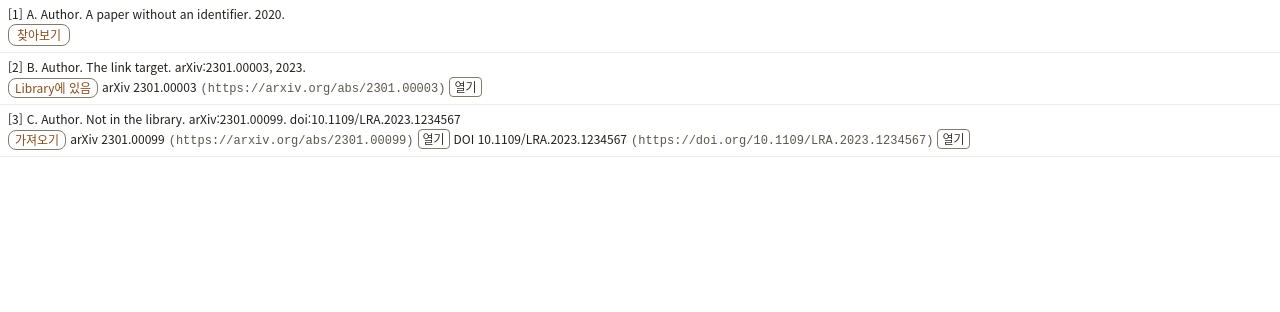
searches once on the first click for an unparsed citation and lets the reader refine the query
The width and height of the screenshot is (1280, 312).
Click the button with test id "pn-ref-find": point(39, 35) top-left (8, 24), bottom-right (70, 46)
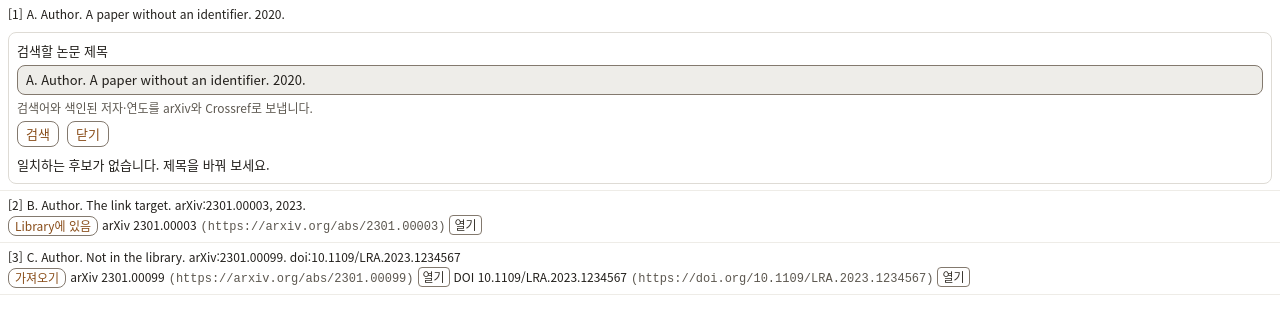
Expected: the message "일치하는 후보가 없습니다. 제목을 바꿔 보세요." is shown, top-left (17, 155), bottom-right (270, 174)
Expected: the search field with test id "pn-ref-query" holds "A. Author. A paper without an identifier. 2020."
Replace the text in the search field with test id "pn-ref-query" with "  Scan Alignment  ": point(640, 80) top-left (17, 65), bottom-right (1263, 95)
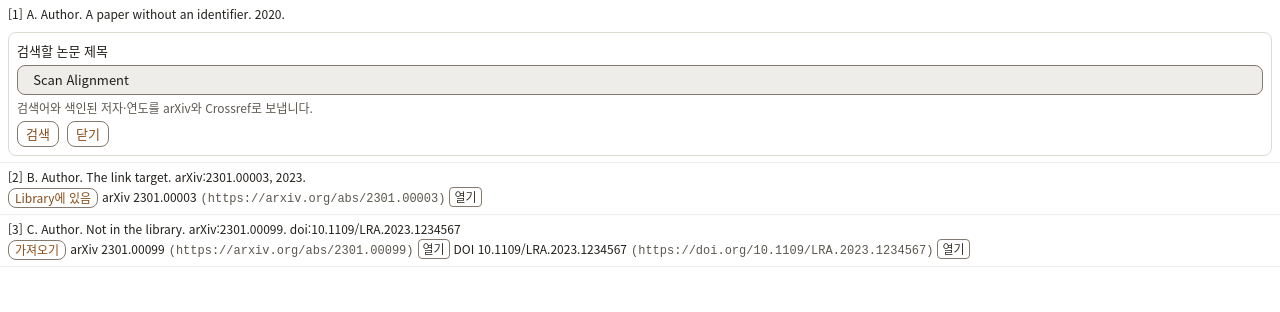
Click the button with test id "pn-ref-search": point(38, 134) top-left (17, 121), bottom-right (59, 147)
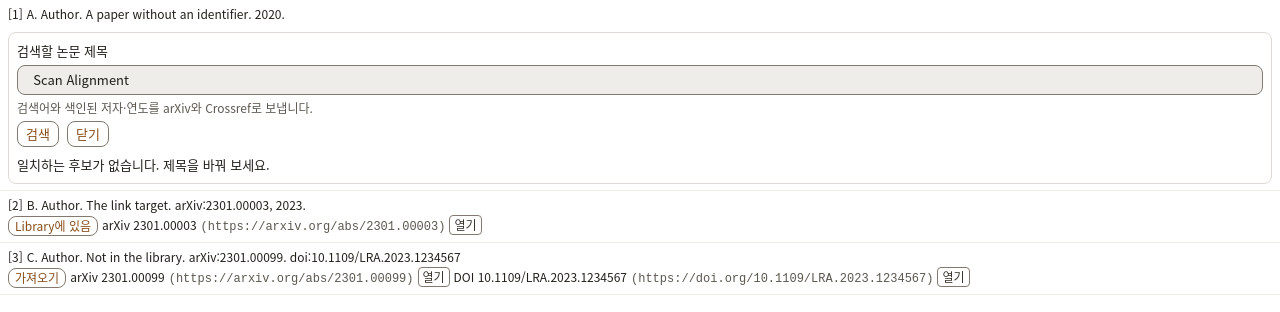
Expected: the message "일치하는 후보가 없습니다. 제목을 바꿔 보세요." is shown, top-left (17, 155), bottom-right (270, 174)
